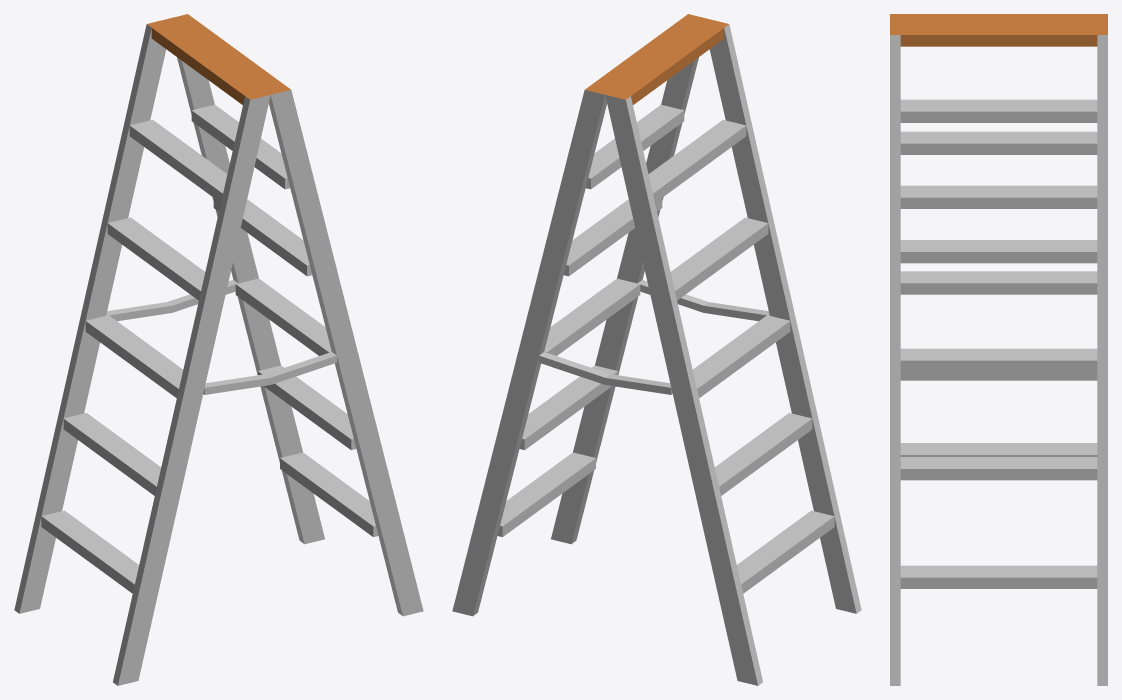
3 renders of one model, left to right at view 1: azimuth 30°, elevation 25°; view 2: azimuth 150°, elevation 25°; view 3: azimuth 270°, elevation 25°, orthographic. The views are drawn at different scales.
Parts seen in each view (by area): view 1: T-28; view 2: T-28; view 3: T-28.
Part boxes in pixels (x1,y1,x2,y2): T-28: (14,14,423,685); T-28: (452,14,861,685); T-28: (890,14,1107,685).
Size of the model in its own units: 104 by 180 by 61.
